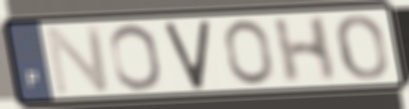H: (270, 13, 339, 87)
N: (43, 22, 114, 98)
O: (107, 22, 166, 93), (334, 13, 391, 83), (222, 18, 277, 87)
V: (161, 17, 212, 92)
